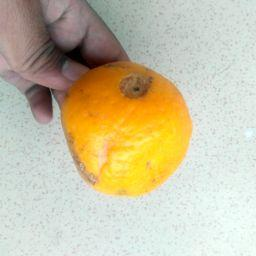Unripe: (59, 61, 191, 197)
